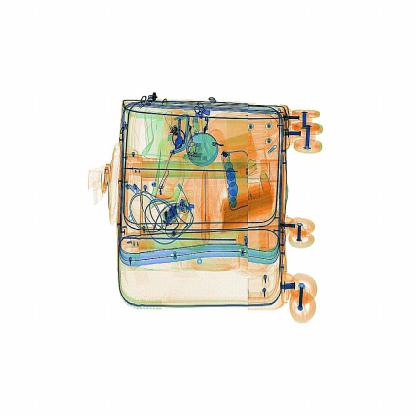pliers: (196, 168, 216, 240)
